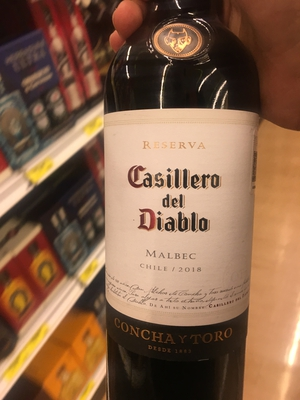casillero del diablo malbec: (100, 10, 262, 400)
